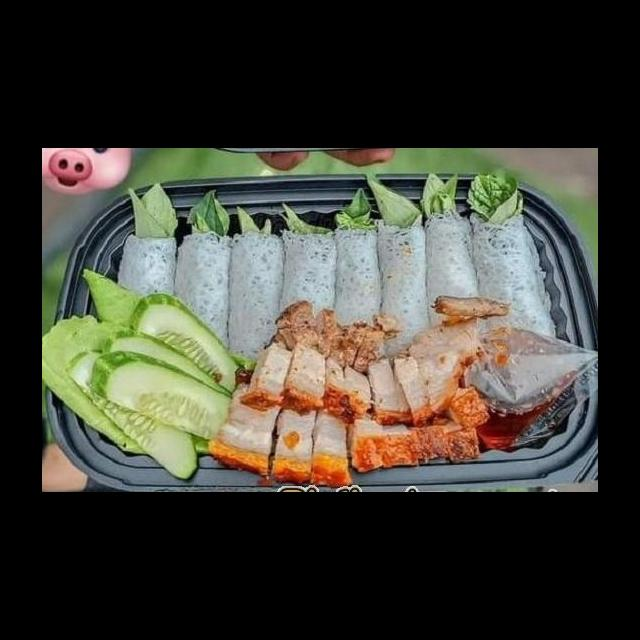banh hoi: (465, 207, 560, 344), (225, 228, 289, 379), (372, 217, 436, 362), (167, 227, 235, 358), (421, 207, 484, 333), (274, 227, 341, 325), (329, 223, 385, 332), (114, 230, 180, 312)
banh hoi heo quay: (62, 176, 598, 492)
thit heo quay: (203, 374, 285, 484), (420, 344, 493, 430), (236, 331, 296, 417), (263, 398, 320, 484), (274, 336, 331, 421), (405, 413, 488, 468), (305, 405, 357, 489), (362, 353, 418, 429), (390, 349, 440, 427), (341, 408, 395, 479), (316, 351, 354, 425), (375, 415, 424, 471), (341, 362, 375, 428)
